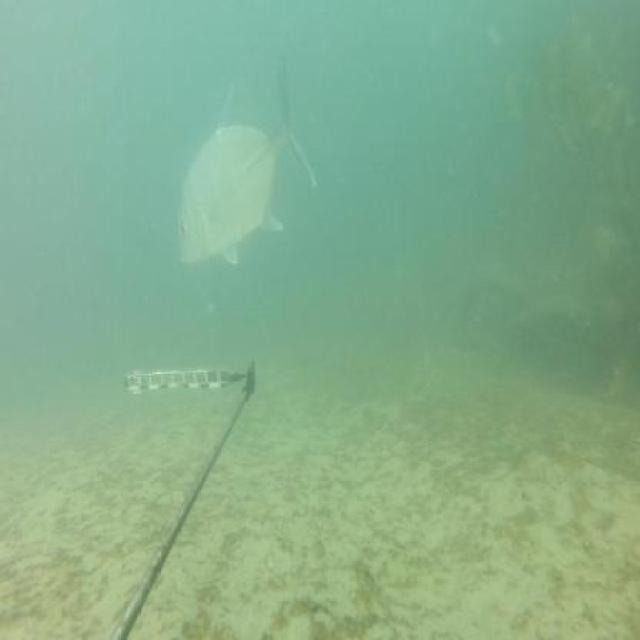Caranx: (173, 54, 321, 274)
